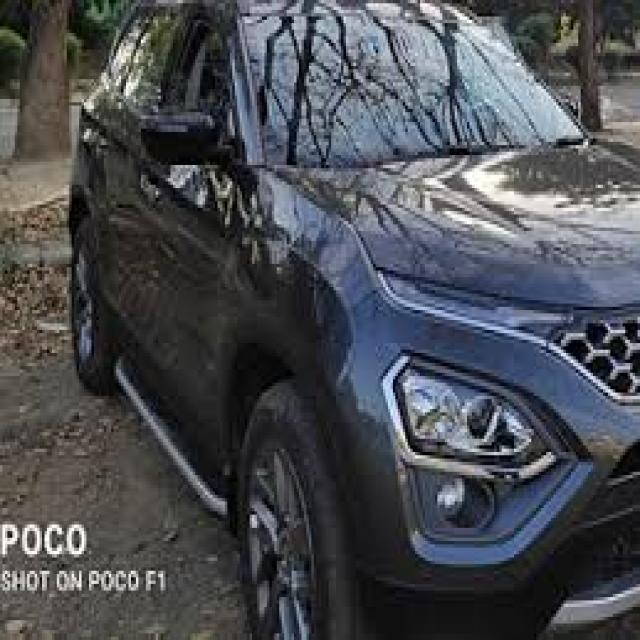Car: (70, 3, 640, 637)
